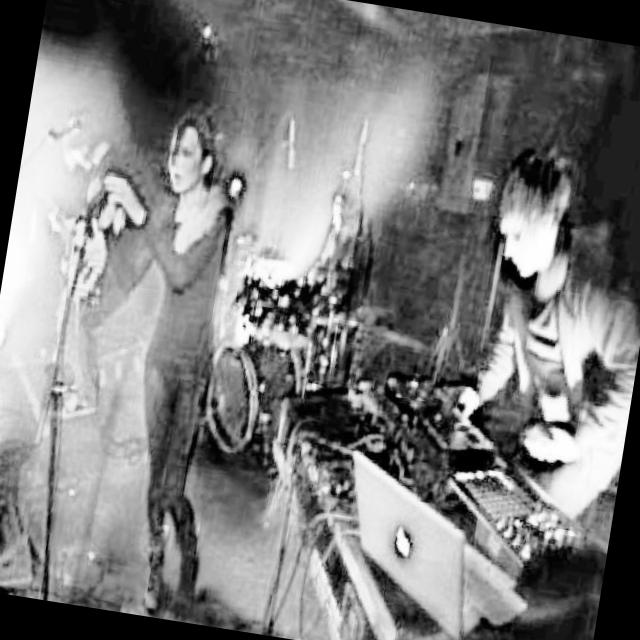Person: (36, 82, 275, 624), (445, 139, 640, 524)
